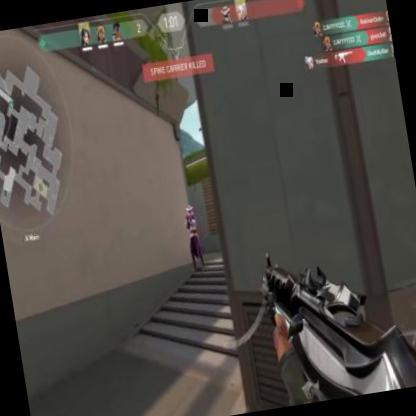enemy: (180, 202, 206, 272)
enemy_head: (185, 204, 193, 215)
